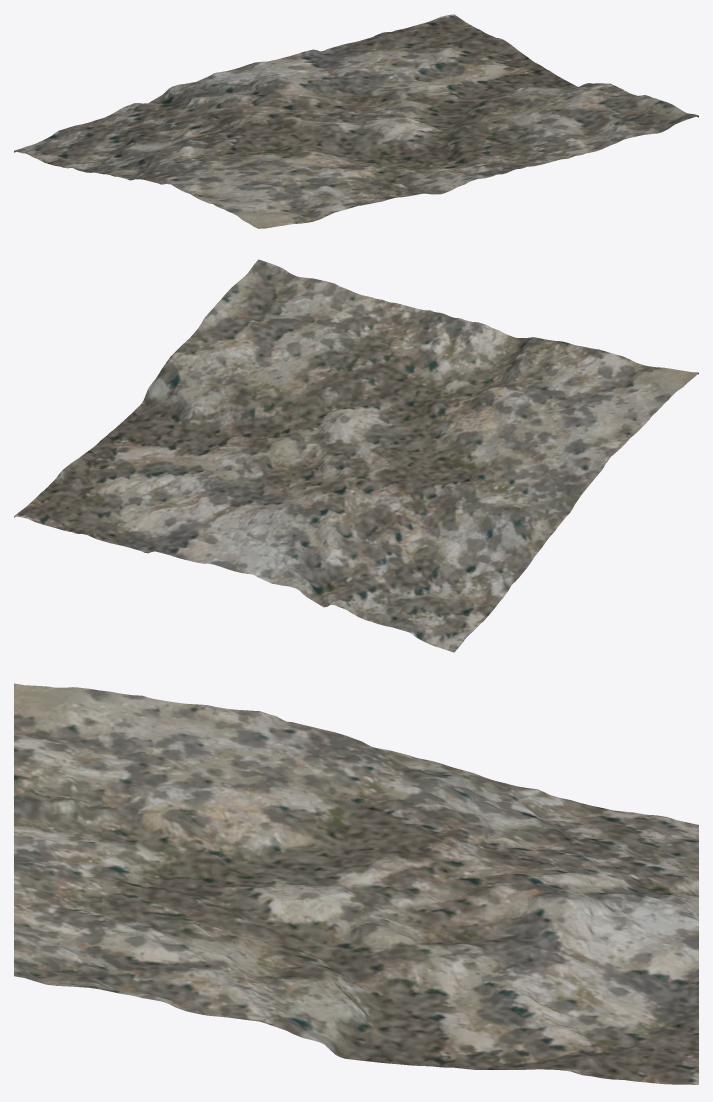
3 renders of one model, top to bottom at view 1: azimuth 30°, elevation 25°; view 2: azimuth 150°, elevation 25°; view 3: azimuth 270°, elevation 25°, orthographic. The views are drawn at different scales.
Size of the model in its own units: 250 by 58.96 by 241.
Materials: 1 (1 with a texture image).
